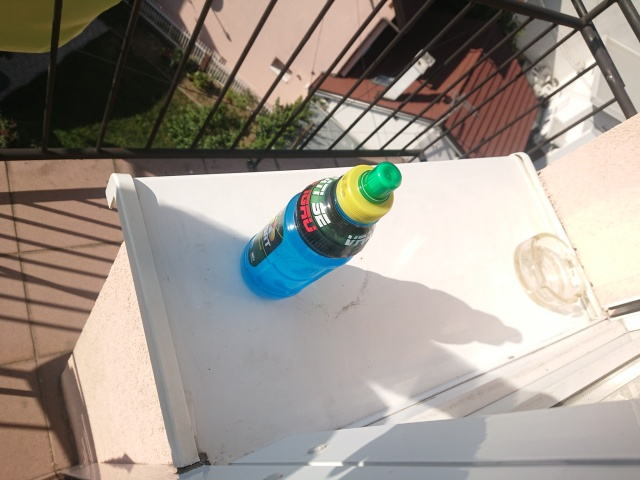Vindi Iso Sport Forest Strawberries 500mL: (237, 160, 404, 303)
